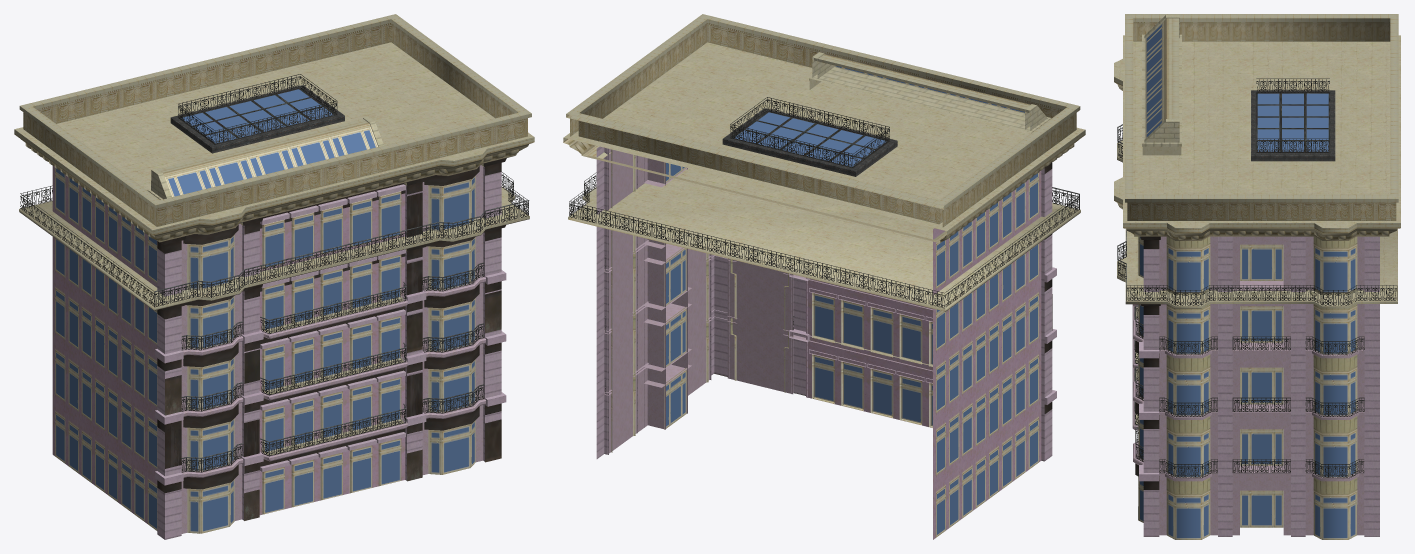
Rendered from BuilD.fbx.
The picture shows the model from 3 angles, left to right: view 1: azimuth 30°, elevation 25°; view 2: azimuth 150°, elevation 25°; view 3: azimuth 270°, elevation 25°; orthographic projection.
Visible parts, largest first — view 1: ct2_03_n1_ym2_builD_high01; view 2: ct2_03_n1_ym2_builD_high01; view 3: ct2_03_n1_ym2_builD_high01.
Boxes of the visible parts, bbox=[...] form: ct2_03_n1_ym2_builD_high01: bbox=[14, 14, 534, 539]; ct2_03_n1_ym2_builD_high01: bbox=[563, 14, 1085, 539]; ct2_03_n1_ym2_builD_high01: bbox=[1114, 14, 1400, 539].
Bounding box in the file's own units: 3202 × 2787 × 2017.
